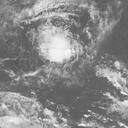cyclone: (31, 20, 86, 68)
